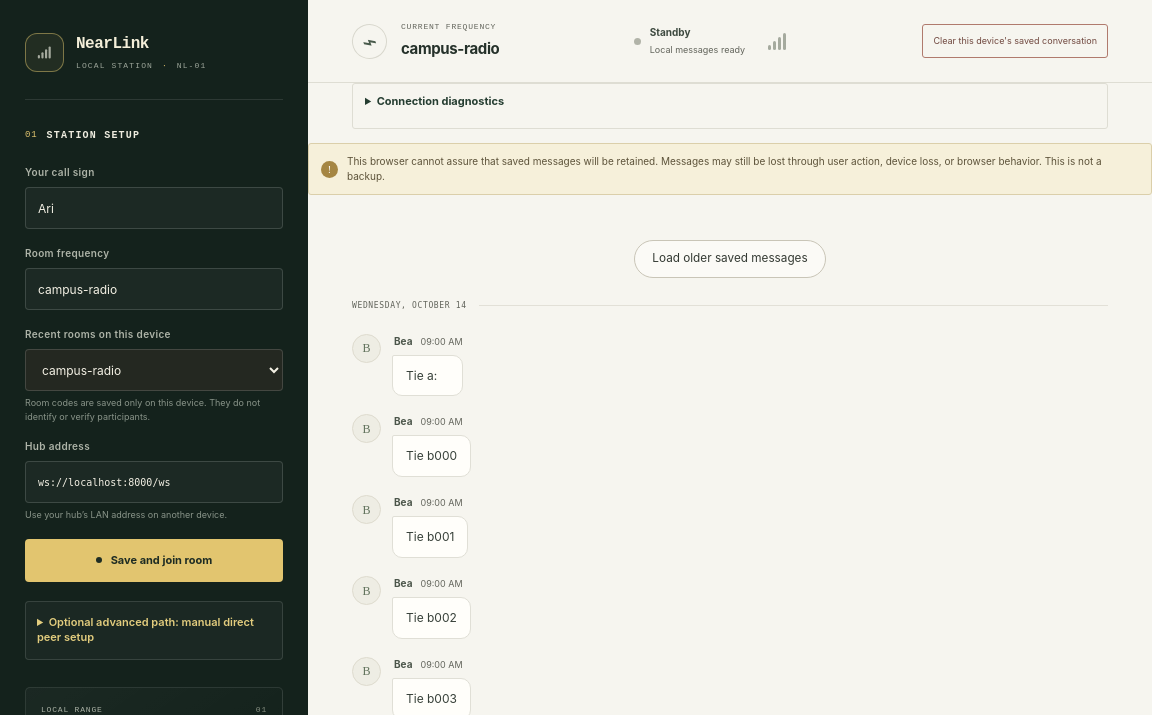
Test: browser app messaging flow › keeps IndexedDB string-key order across local page boundaries
This screenshot has width=1152, height=715.
expect the text "Tie a:" is shown: met, box [392,355,463,396]
expect the text "Tie a." is not shown: met
Click the button "Load older saved messages": click(730, 259) [634,240,826,278]
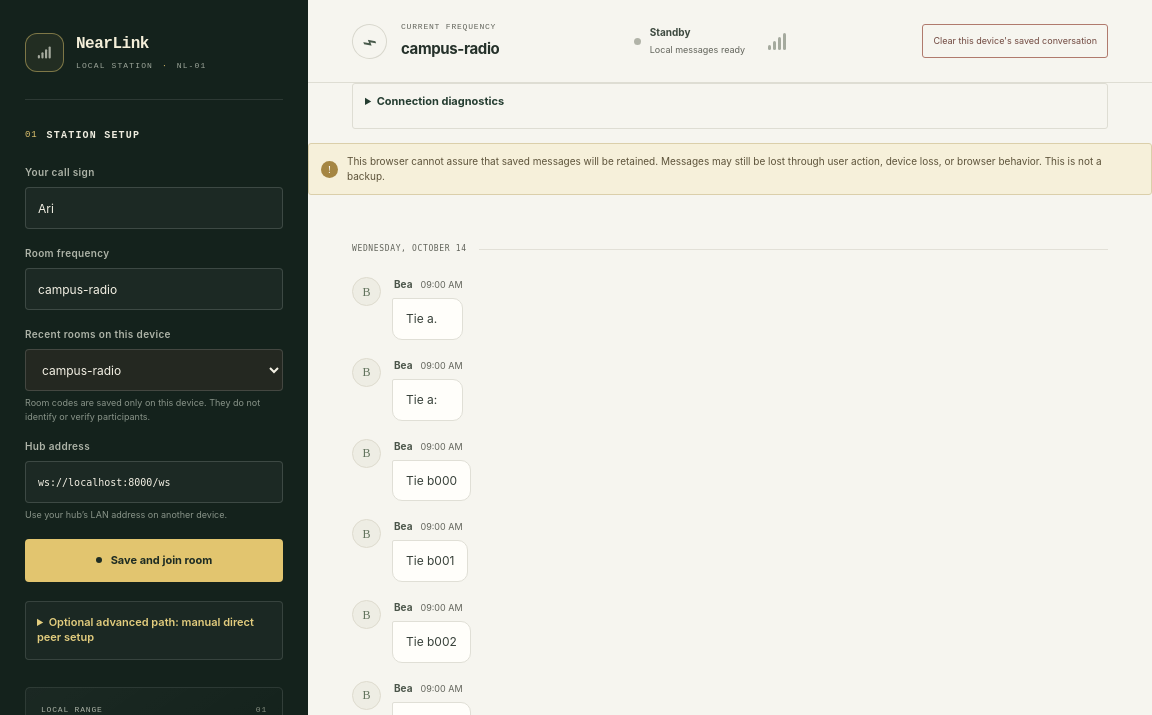
expect the text "Tie a." is shown: met, box [392,298,463,340]
